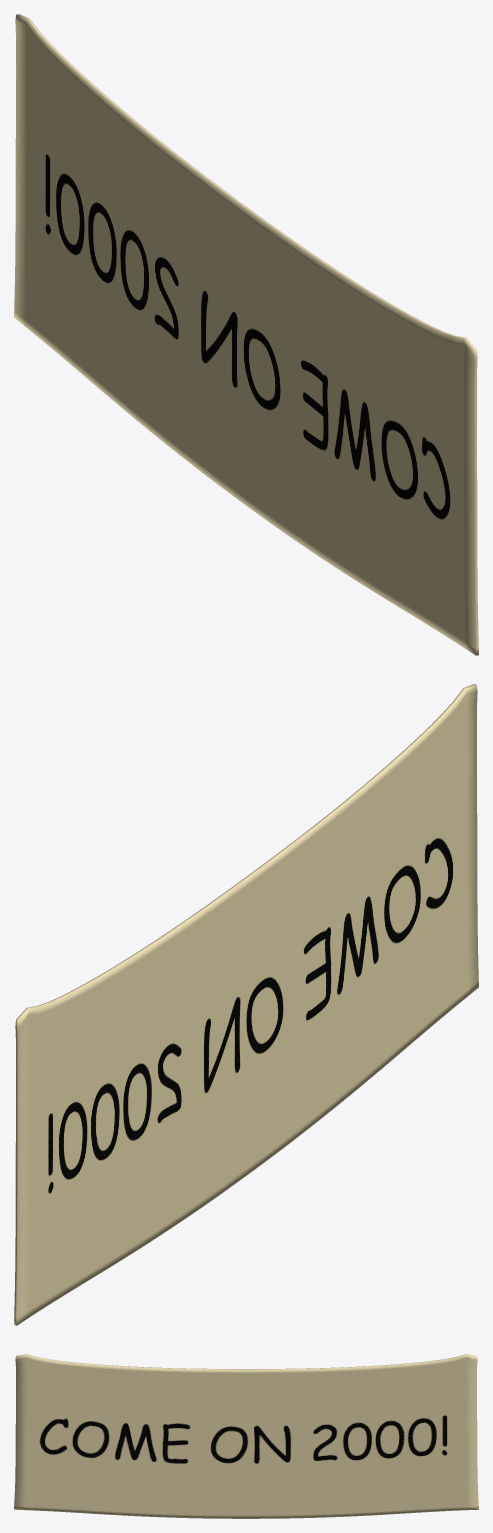
The model's file is Banner.fbx.
3 views of the same model, one above another, from view 1: azimuth 30°, elevation 25°; view 2: azimuth 150°, elevation 25°; view 3: azimuth 270°, elevation 25° (orthographic). The views are drawn at different scales.
Parts seen in each view (by area): view 1: Poster; view 2: Poster; view 3: Poster.
Part boxes in pixels (bbox=[...]): Poster: bbox=[14, 14, 478, 655]; Poster: bbox=[14, 684, 478, 1325]; Poster: bbox=[14, 1354, 478, 1518].
Size of the model in its own units: 3 by 333 by 856.
